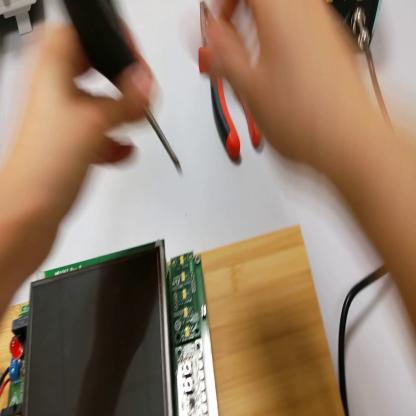hand: (2, 22, 154, 276), (204, 4, 359, 167)
low voltage board: (2, 243, 223, 416)
oscilloscope: (2, 1, 39, 36)
pliers: (199, 3, 262, 160)
screwdriver-: (60, 2, 190, 195)
welder station: (326, 3, 383, 55)
working area: (4, 224, 346, 414)
